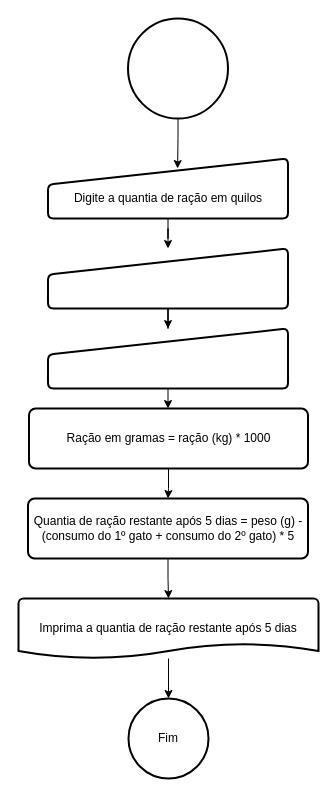
The diagram is 336 pixels wide and 796 high, and some of its shapes have lost their labels. The shapes that lost their labels are listed below. From the top down, each one's centre as x and y in pixels, then its label:
pixel 177 68: Início
pixel 167 278: Digite quantos gramas de ração o 1º gato consome por dia
pixel 167 358: Digite quantos gramas de ração o 2º gato consome por dia
